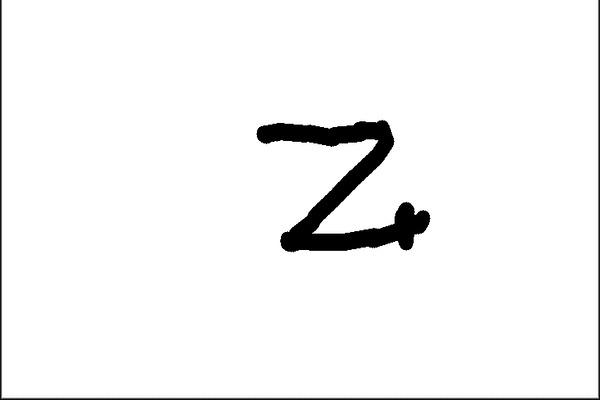Z: (245, 109, 433, 264)
